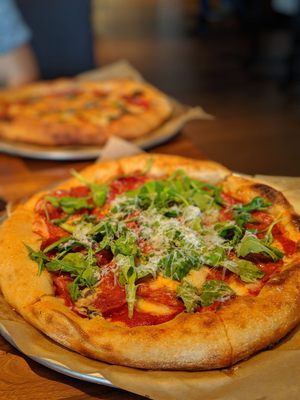curry: (1, 38, 299, 400)
sandwich: (0, 153, 300, 371), (0, 77, 172, 147)
